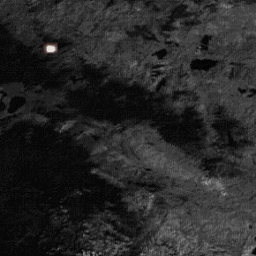Target: (45, 42, 56, 53)
